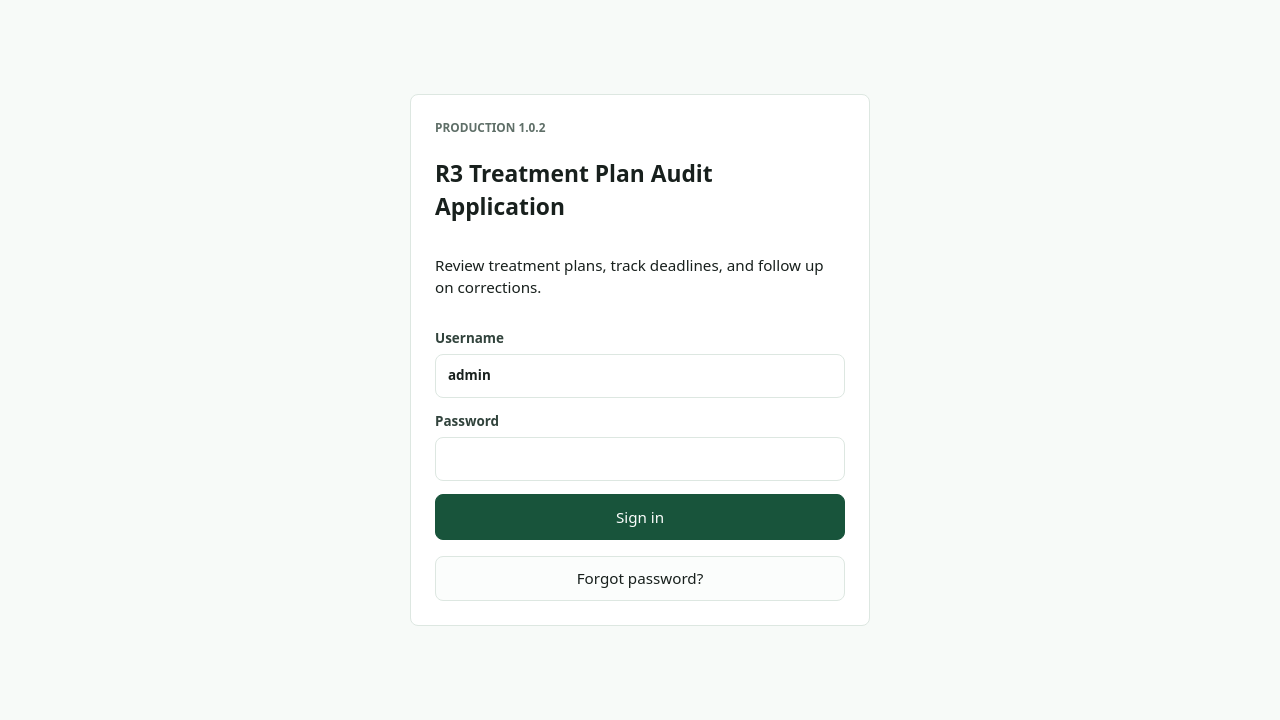
Test: V2 active app shell › gives counselors an actionable correction queue without manager controls
Type "StrongLocalPass1" into the password field labelled "Password" at (640, 459), box [435,437,845,481]
Click the button "Sign in" at (640, 517), box [435,494,845,540]
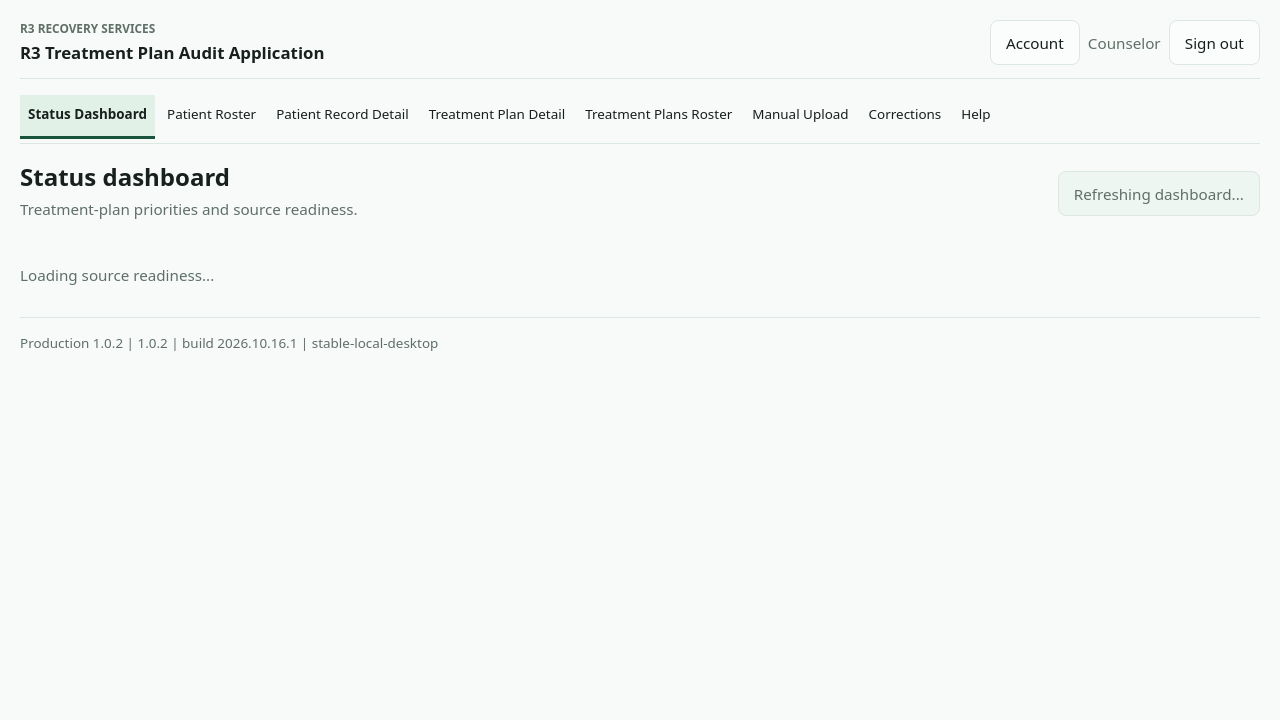
Expected: the navigation bar named "primary navigation" is shown, [20,94,1260,144]
Click the button "Patient Roster" at (212, 116), box [159,94,264,138]
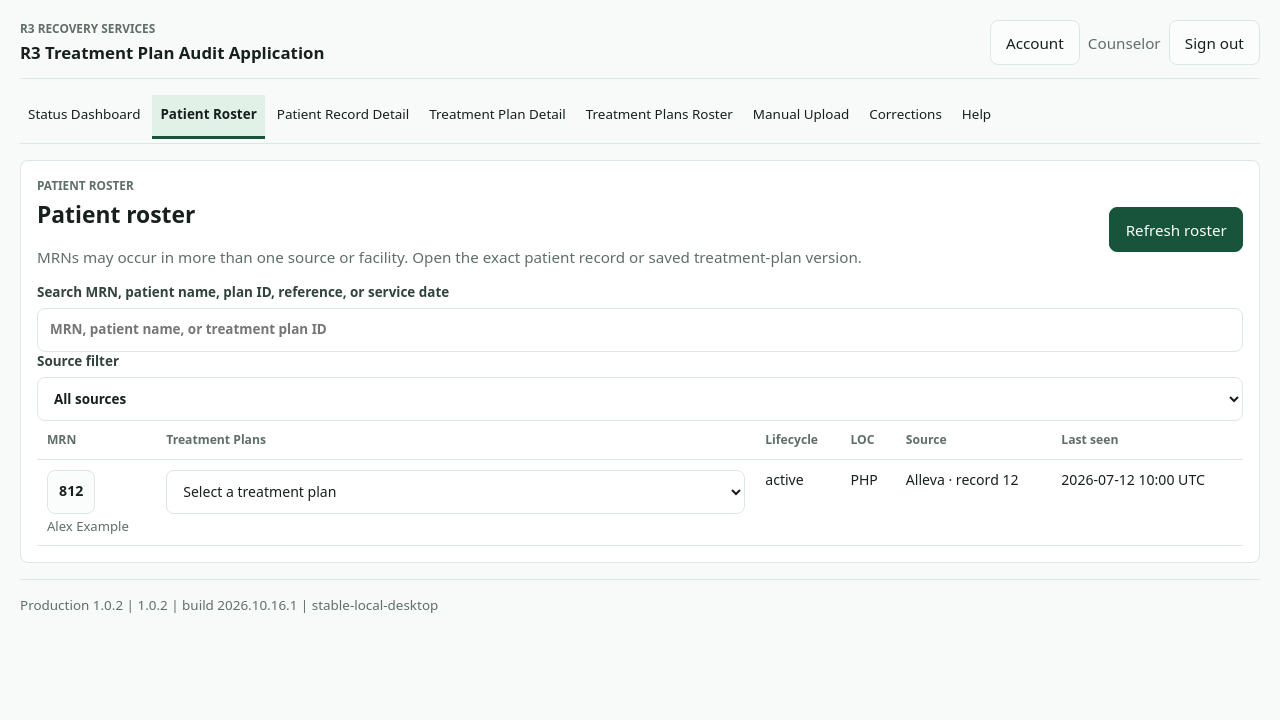
Select "plan-812 · Alleva · record 12 · version 1 (#18) · 2026-07-12 10:00 UTC" in the dropdown named "Treatment plans for MRN 812" at (456, 492), box [166,470,745,514]
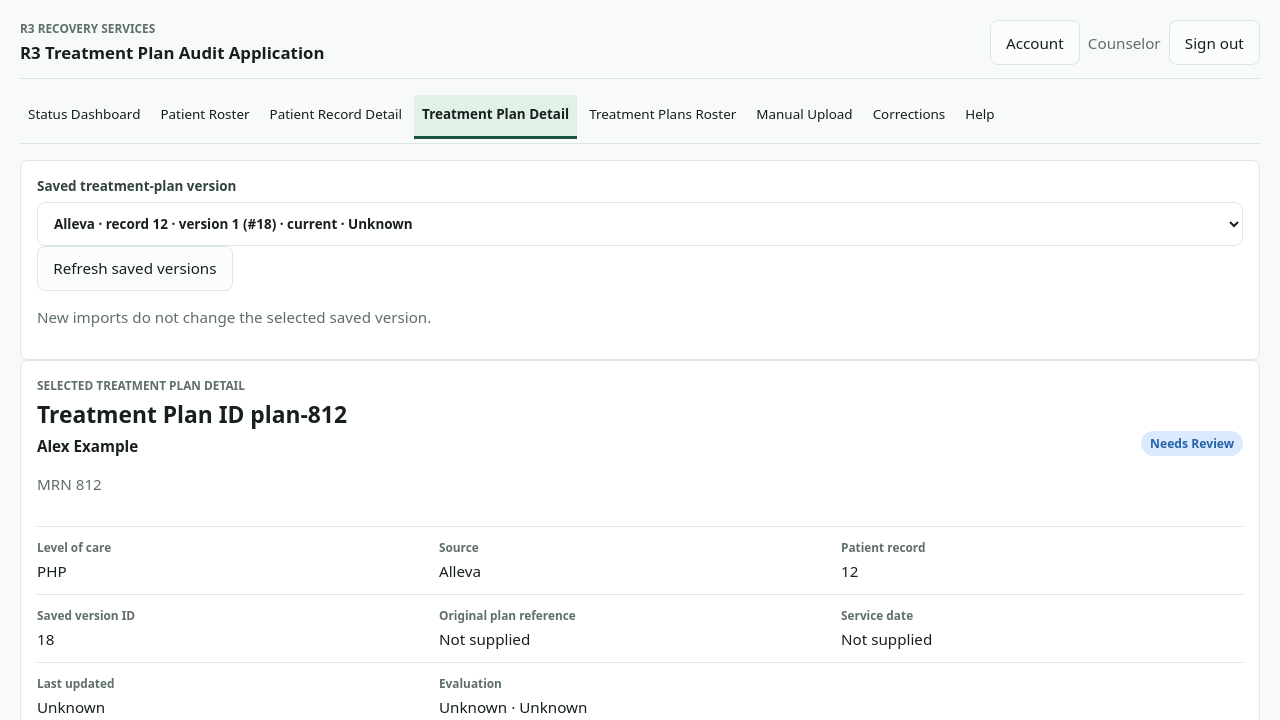
Expected: the text "MRN 812" is shown, [37,474,102,494]
Click the button "Corrections" at (909, 116), box [865,94,953,138]
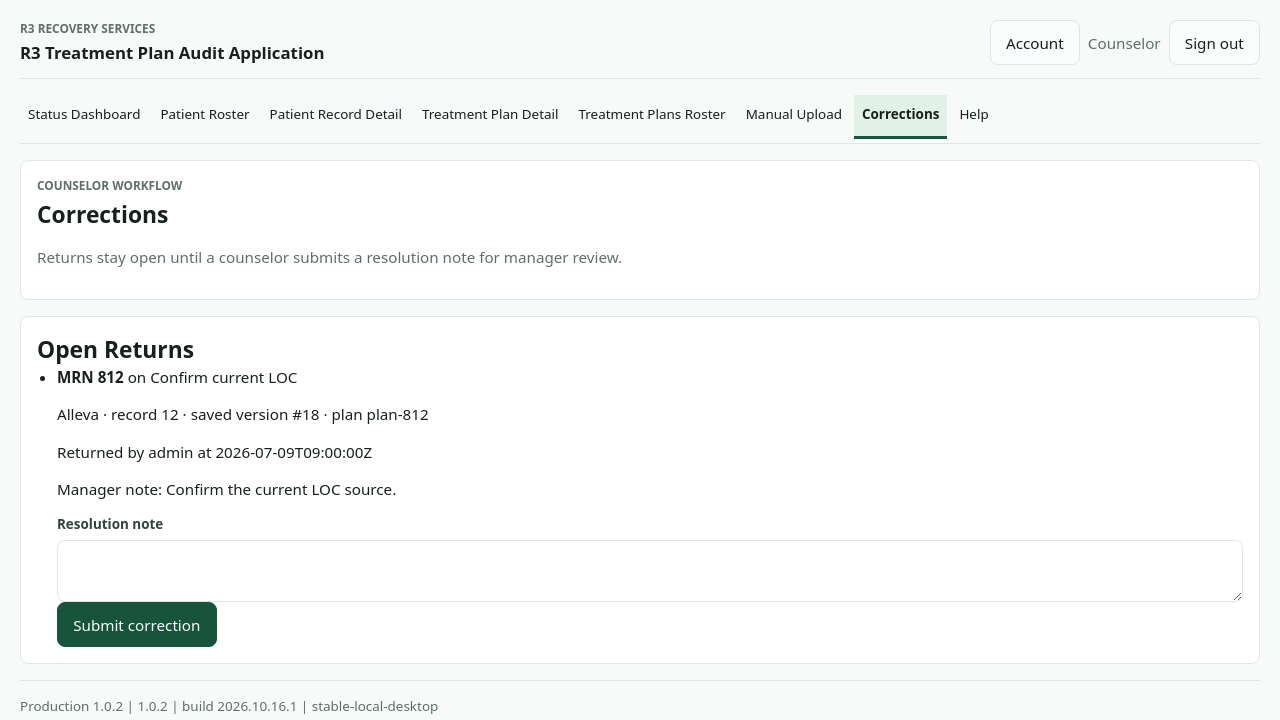
Expected: the heading "Open Returns" is shown, [37,334,194,365]
Expected: the text "Manager note: Confirm the current LOC source." is shown, [57,479,396,499]
Type "Updated synthetic source record." into the text box labelled "Resolution note" at (650, 571), box [57,540,1243,602]
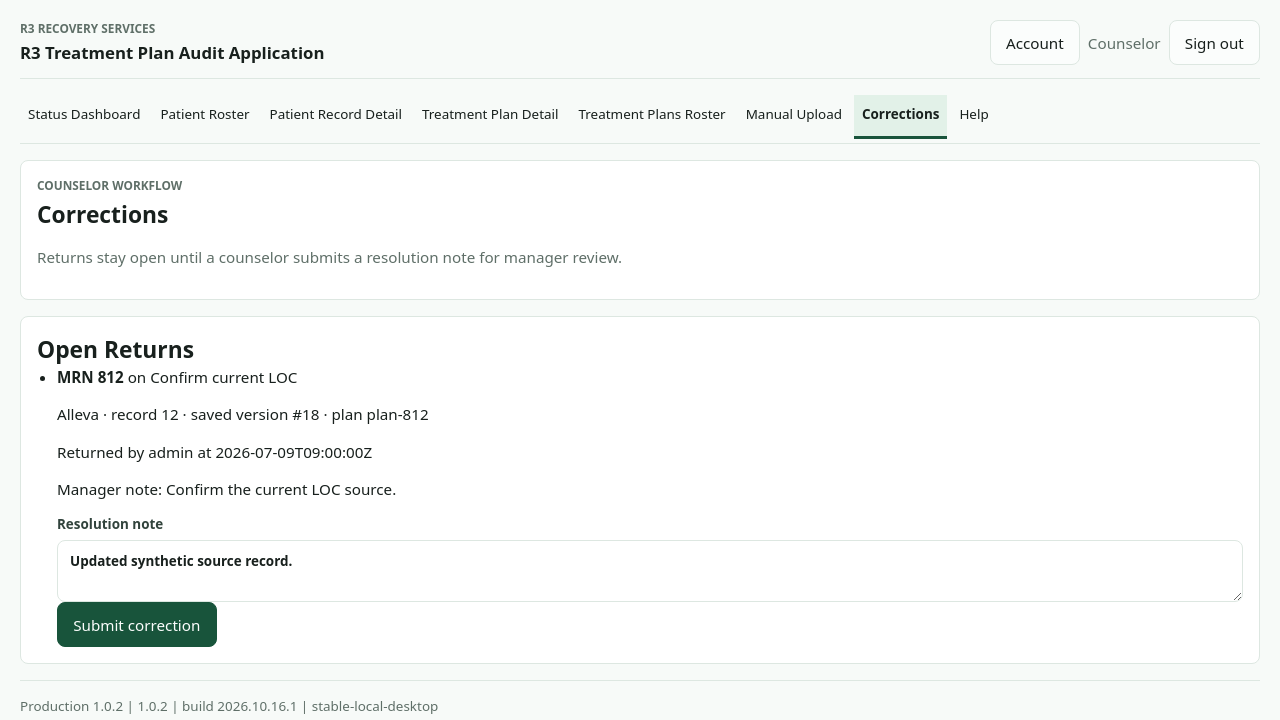
Click the button "Submit correction" at (137, 625), box [57,602,216,647]
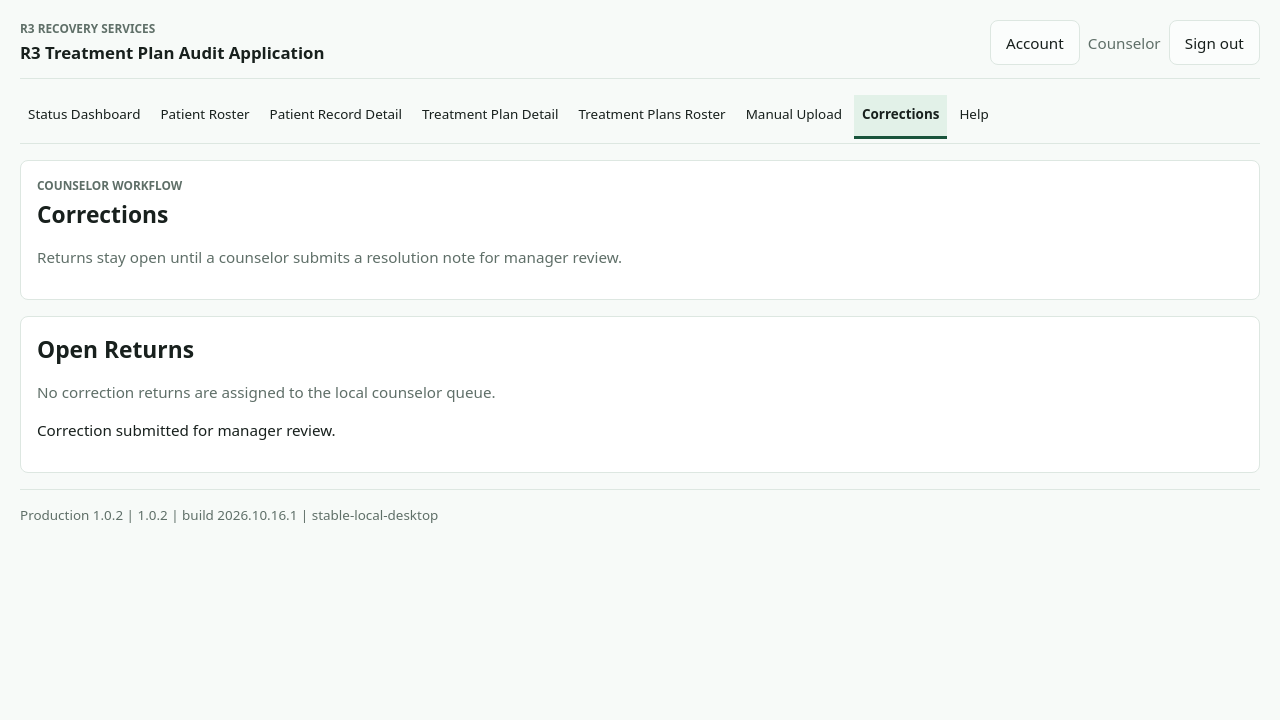
Expected: the message reads "Correction submitted for manager review.", [37,420,336,440]
